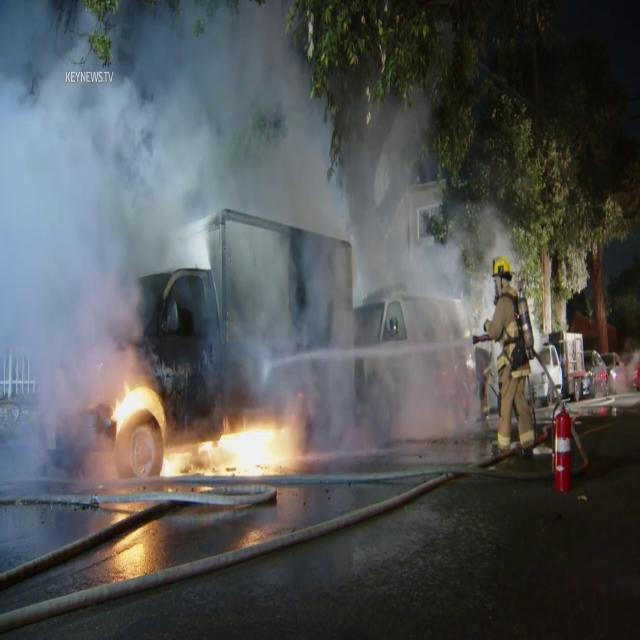Fire: (157, 417, 304, 482), (103, 372, 167, 436)
Smoke: (0, 2, 505, 390)
